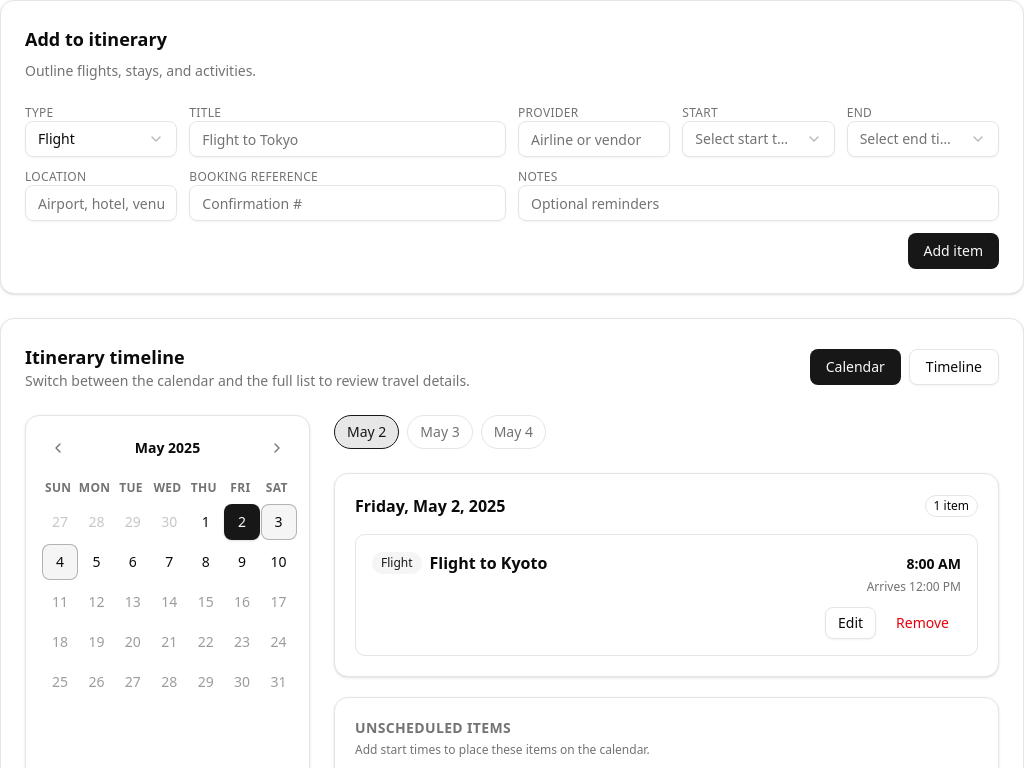
Test: ItineraryPanel › groups entries by day when switching to the timeline view
Click the button "Timeline".
click(954, 367)  # box [909, 349, 999, 385]
(page scrolled)
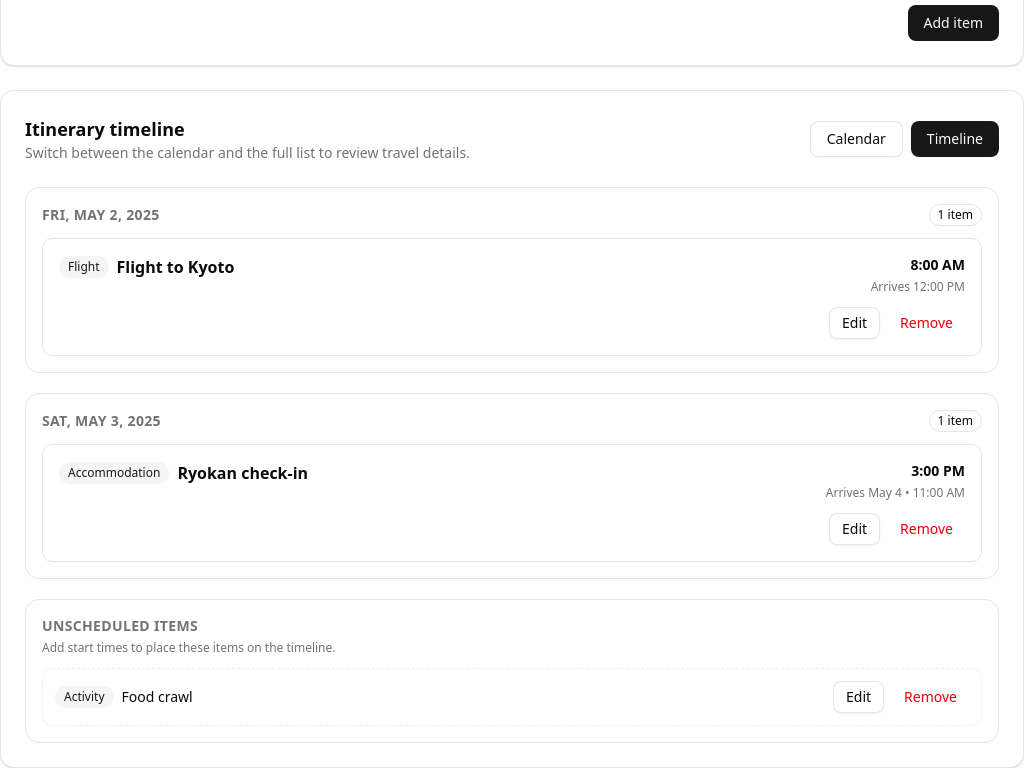
Check: the text "Flight to Kyoto" is shown, box [117, 255, 234, 279]
Check: the text "Ryokan check-in" is shown, box [177, 461, 308, 485]
Check: the text "Add start times to place these items on the timeline." is shown, box [42, 639, 336, 656]
